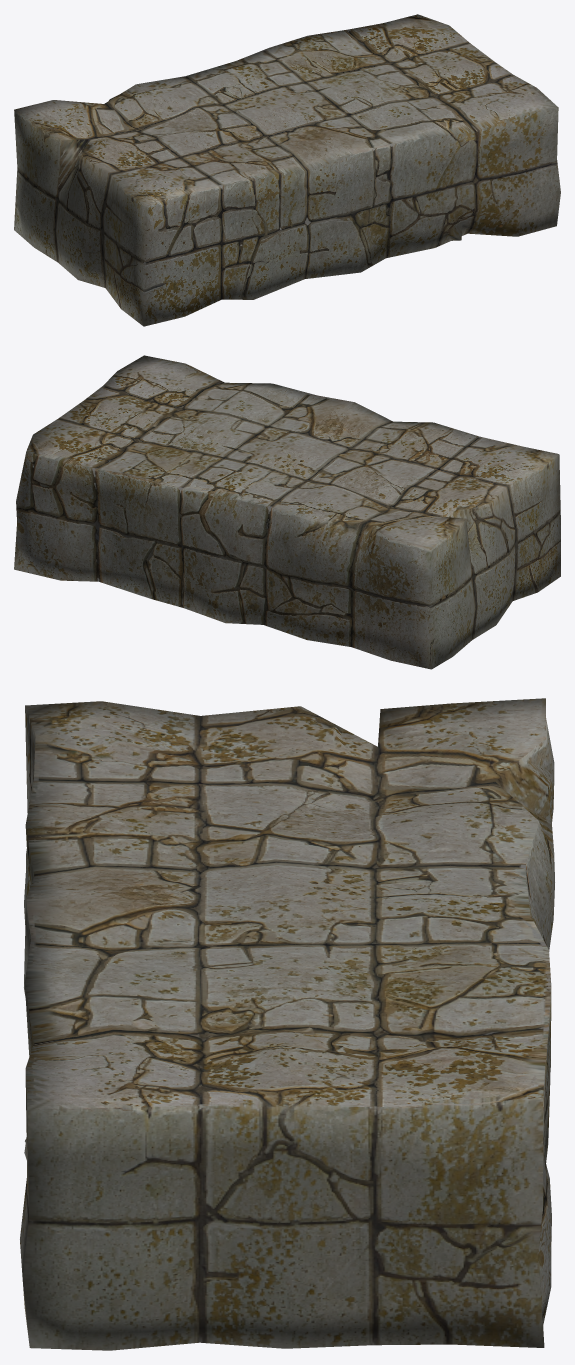
The model's file is Brick.glb.
The picture shows the model from 3 angles, top to bottom: view 1: azimuth 30°, elevation 25°; view 2: azimuth 150°, elevation 25°; view 3: azimuth 270°, elevation 25°; orthographic projection. The views are drawn at different scales.
Parts seen in each view (by area): view 1: texture_mapping; view 2: texture_mapping; view 3: texture_mapping.
Boxes of the visible parts, bbox=[...] form: texture_mapping: bbox=[14, 14, 560, 326]; texture_mapping: bbox=[14, 355, 560, 669]; texture_mapping: bbox=[20, 698, 554, 1350].
Size of the model in its own units: 0.9974 by 0.2861 by 0.5472.
1 material, 1 textured.
